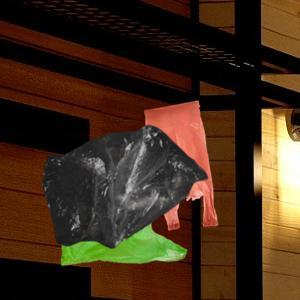plastic_bag: (140, 99, 221, 232)
